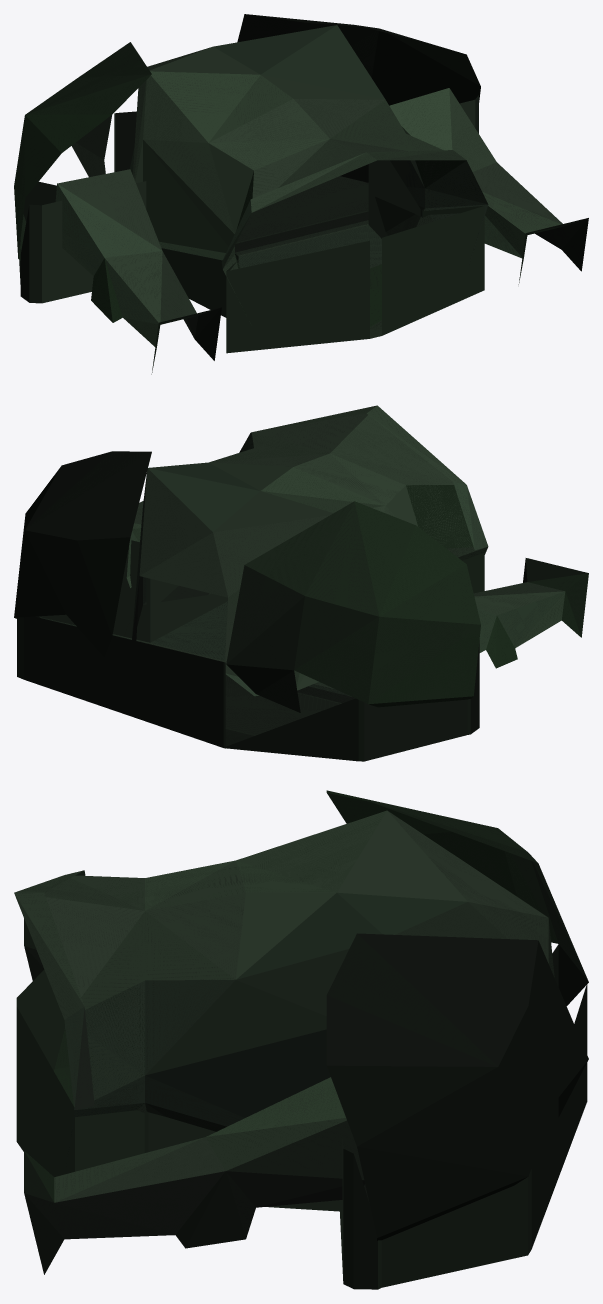
The model's file is adamant-platebody.obj.
3 views of the same model, one above another, from view 1: azimuth 30°, elevation 25°; view 2: azimuth 150°, elevation 25°; view 3: azimuth 270°, elevation 25° (orthographic). The views are drawn at different scales.
Visible parts, largest first — view 1: Item Adamant platebody 2026-09-24_18-15-48; view 2: Item Adamant platebody 2026-09-24_18-15-48; view 3: Item Adamant platebody 2026-09-24_18-15-48.
Part boxes in pixels (<box>): Item Adamant platebody 2026-09-24_18-15-48: <box>14,14,588,374</box>; Item Adamant platebody 2026-09-24_18-15-48: <box>14,405,588,761</box>; Item Adamant platebody 2026-09-24_18-15-48: <box>14,790,588,1289</box>.
Size of the model in its own units: 72 by 30 by 57.
